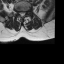CCS_severe_stenosis: (21, 11, 23, 17)
LFS_severe_stenosis: (25, 10, 28, 15)
LLS_stenosis: (23, 11, 25, 15)
RFS_severe_stenosis: (17, 10, 19, 15)
RLS_stenosis: (19, 10, 21, 16)
